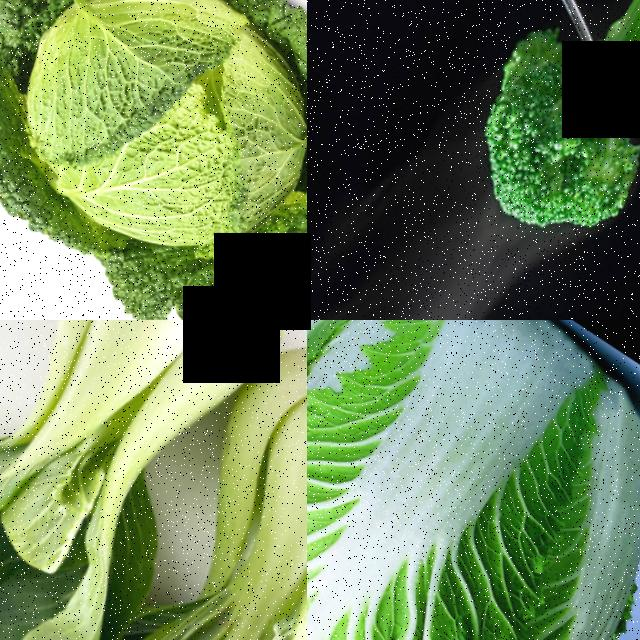bok choy: (0, 320, 307, 640), (63, 320, 307, 640)
broccoli: (414, 18, 640, 278)
cabbage: (307, 320, 640, 640), (0, 0, 307, 320)
